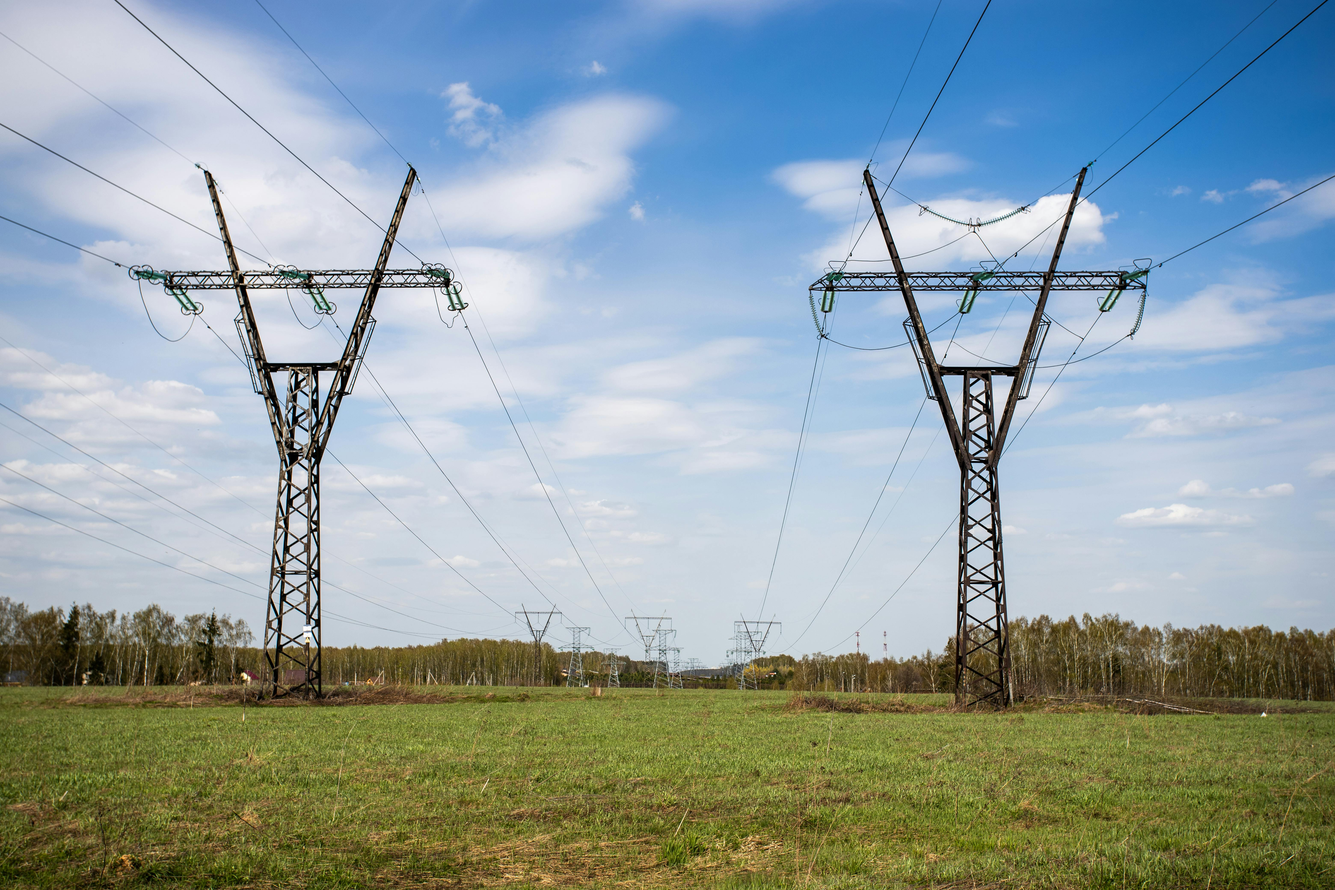insulator: (1093, 277, 1130, 320), (953, 282, 988, 319), (301, 291, 344, 318), (163, 289, 206, 316), (817, 281, 846, 319), (448, 283, 464, 319)
